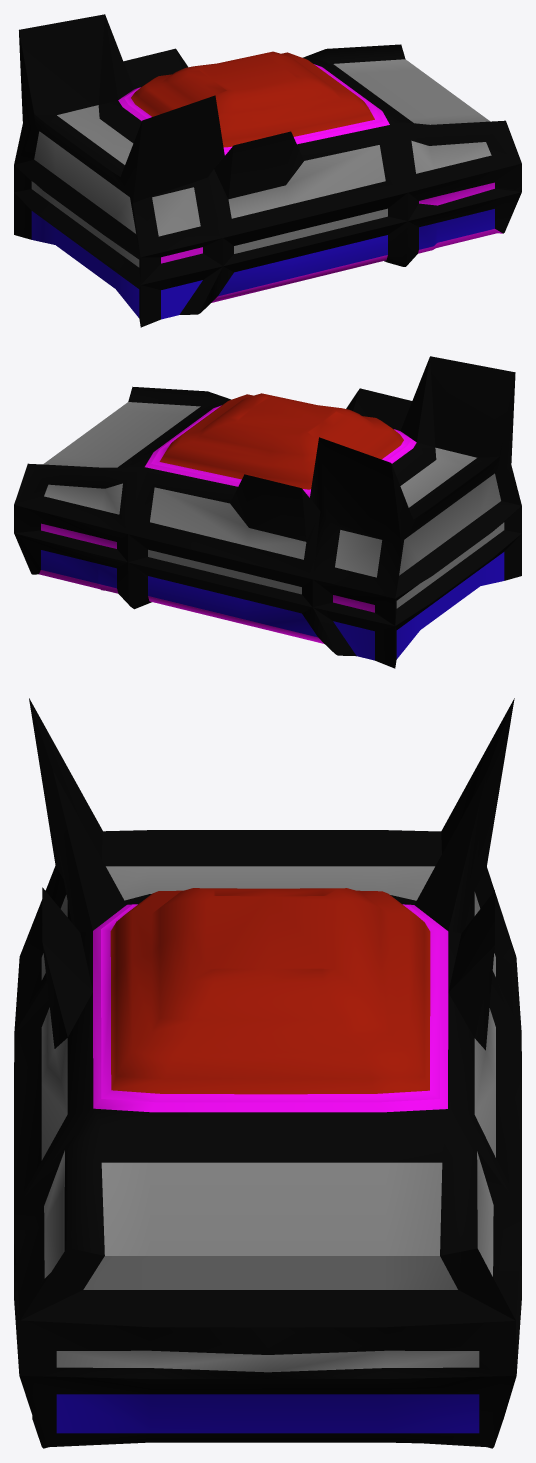
The model's file is daCar.fbx.
The picture shows the model from 3 angles, top to bottom: view 1: azimuth 30°, elevation 25°; view 2: azimuth 150°, elevation 25°; view 3: azimuth 270°, elevation 25°; orthographic projection. The views are drawn at different scales.
Parts seen in each view (by area): view 1: daCAR; view 2: daCAR; view 3: daCAR.
Boxes of the visible parts, x1=… form: daCAR: x1=14, y1=14, x2=521, y2=327; daCAR: x1=14, y1=356, x2=521, y2=668; daCAR: x1=14, y1=698, x2=521, y2=1448.
Size of the model in its own units: 346 by 199 by 182.
